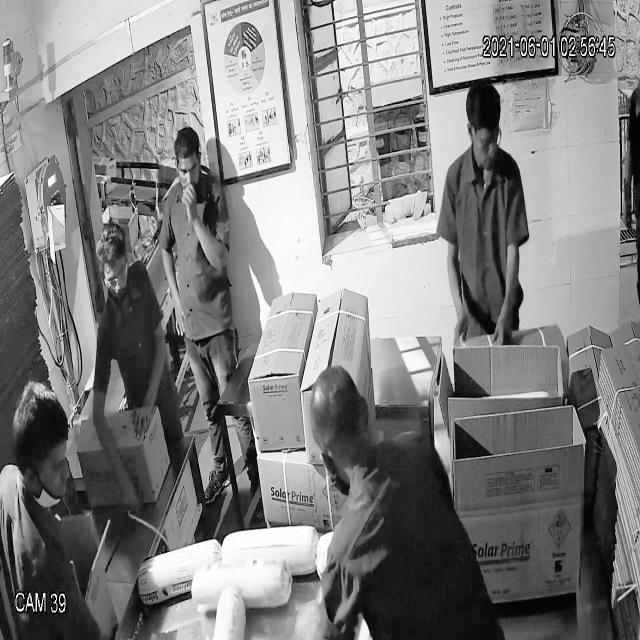glasses: (98, 252, 132, 296)
